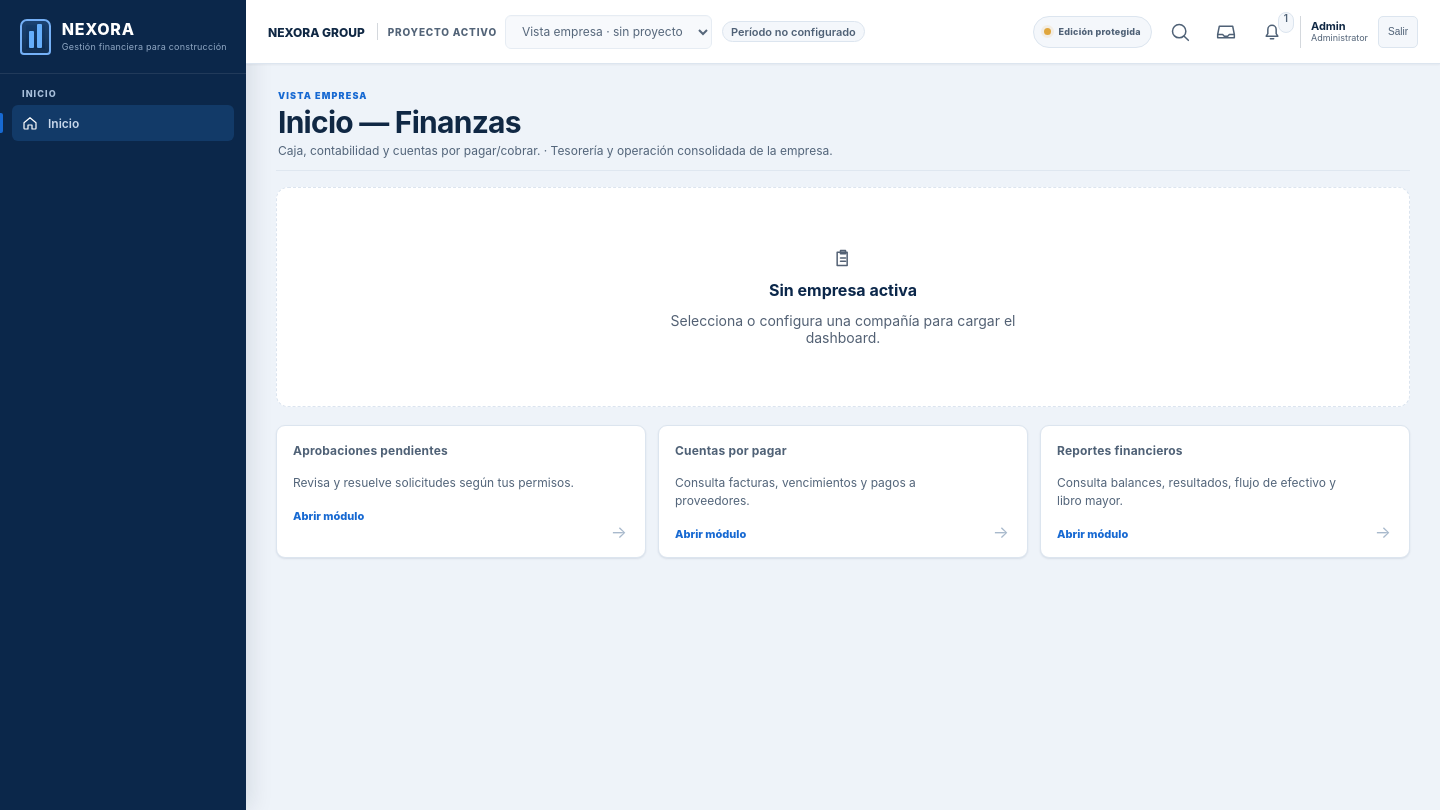
Test: NotificationBell › shows the unread count badge and opens a dropdown with recent notifications
Expected: the heading "Inicio — Finanzas" is shown, [278,104,521,140]
Expected: the text "1" is shown, [1278,12,1294,32]
Step 1. Click the button named "notificaciones (1 sin leer)" → point(1272, 32), box [1254,14,1290,50]
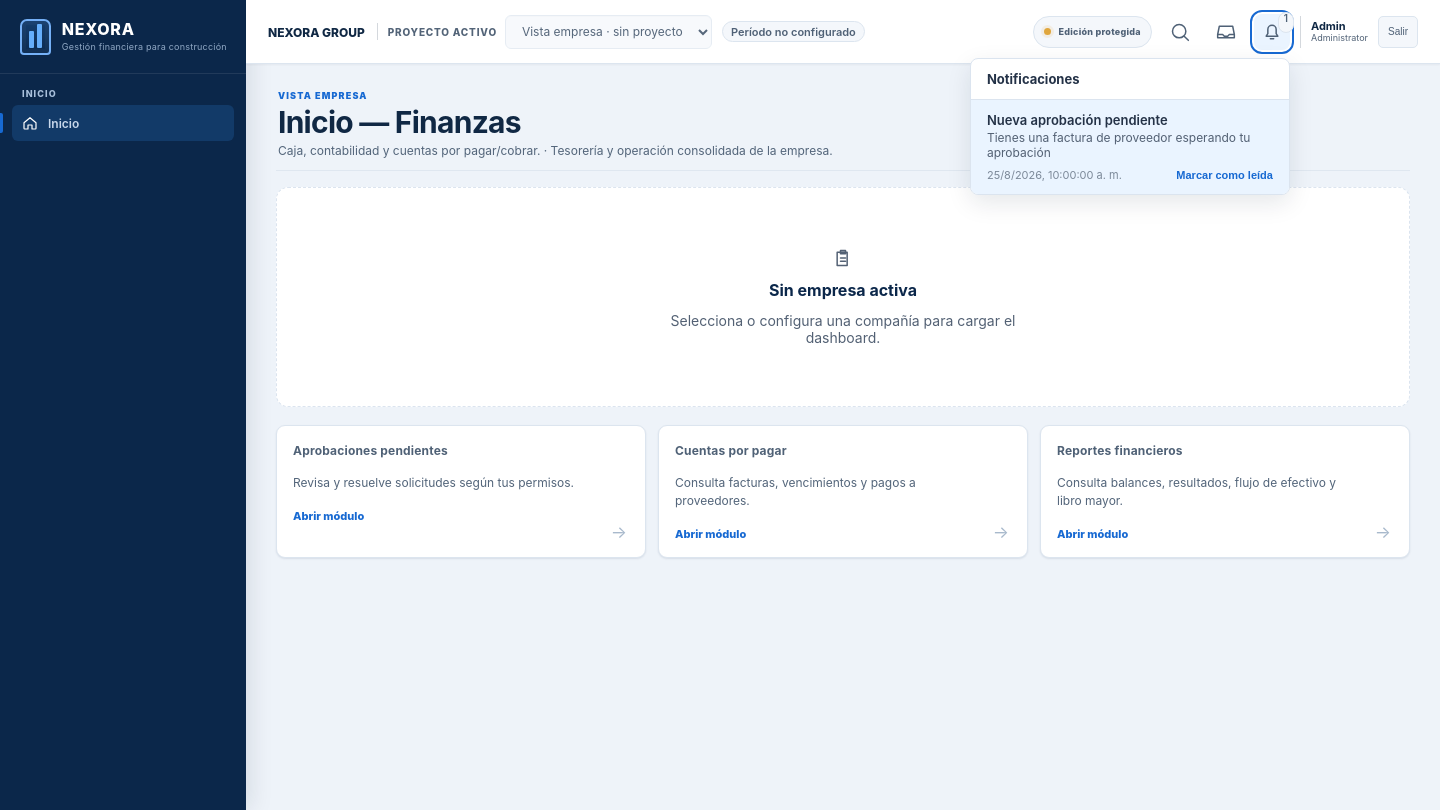
Expected: the text "Nueva aprobación pendiente" is shown, [987,112,1168,128]
